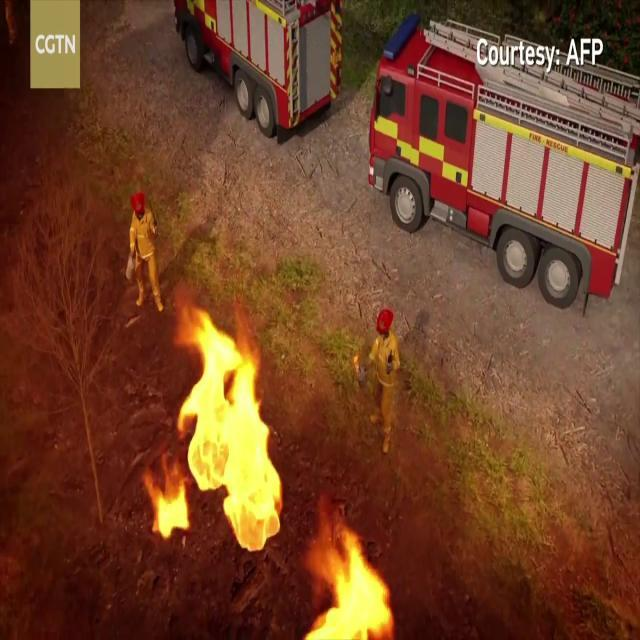Fire: (141, 300, 285, 554), (300, 508, 398, 638)
